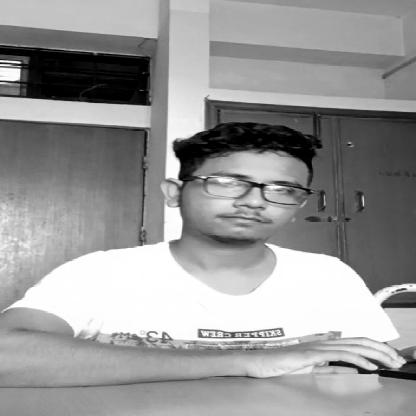Normal: (190, 150, 317, 242)
